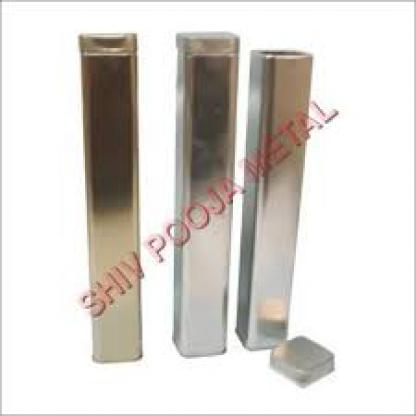METAL: (233, 50, 311, 348), (170, 28, 239, 353), (78, 32, 142, 360), (270, 334, 333, 384)
